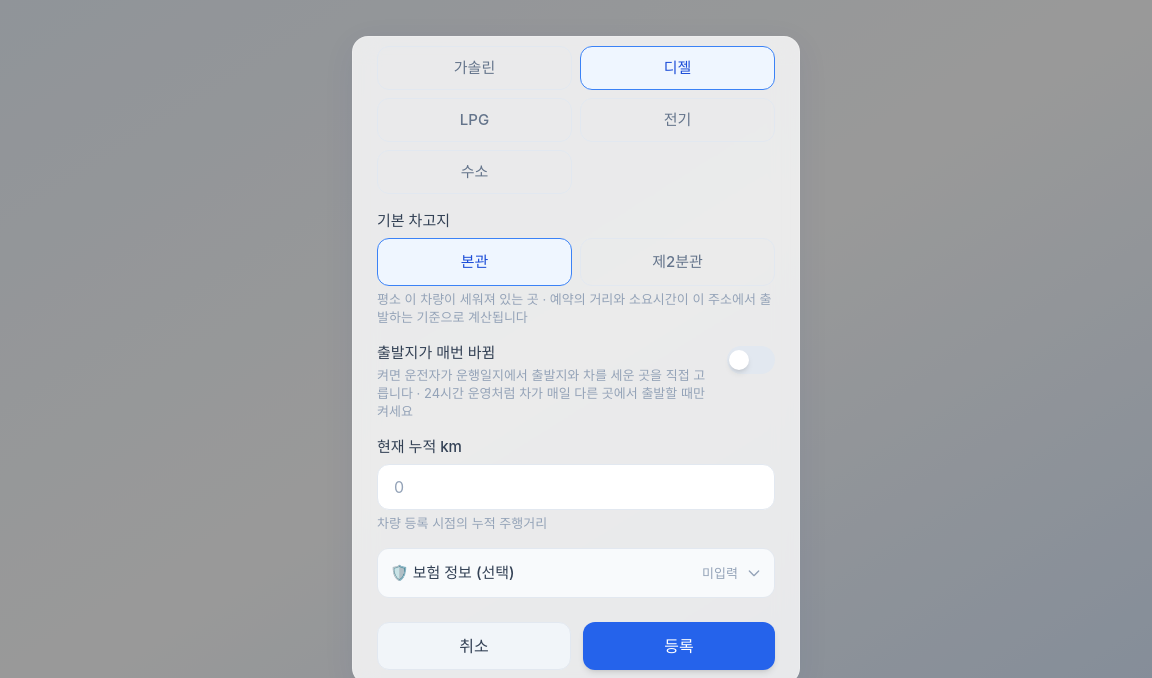
Test: 차량 폼 — 유동 차량 지정 › 체크박스를 켜야 현재 위치 선택이 나타난다
(page scrolled)
Click the switch named "출발지가 매번 바뀜": click(751, 360) [727, 346, 775, 374]
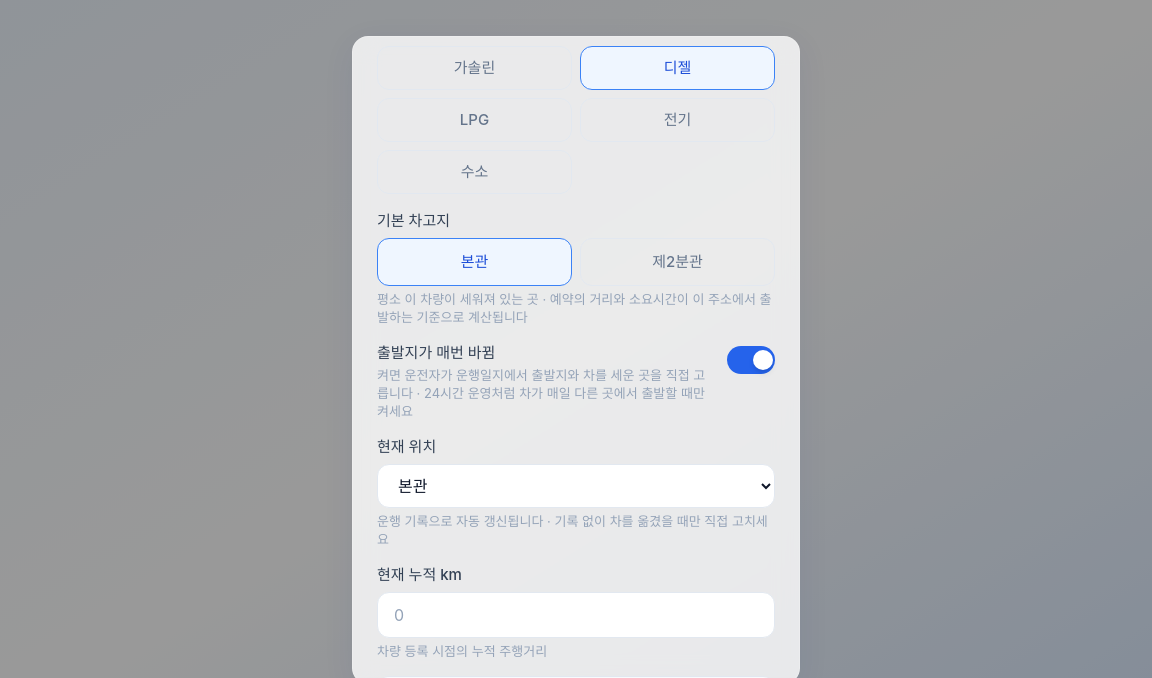
Now the element with test id "vehicle-current-site" is shown, box [377, 436, 775, 548]
